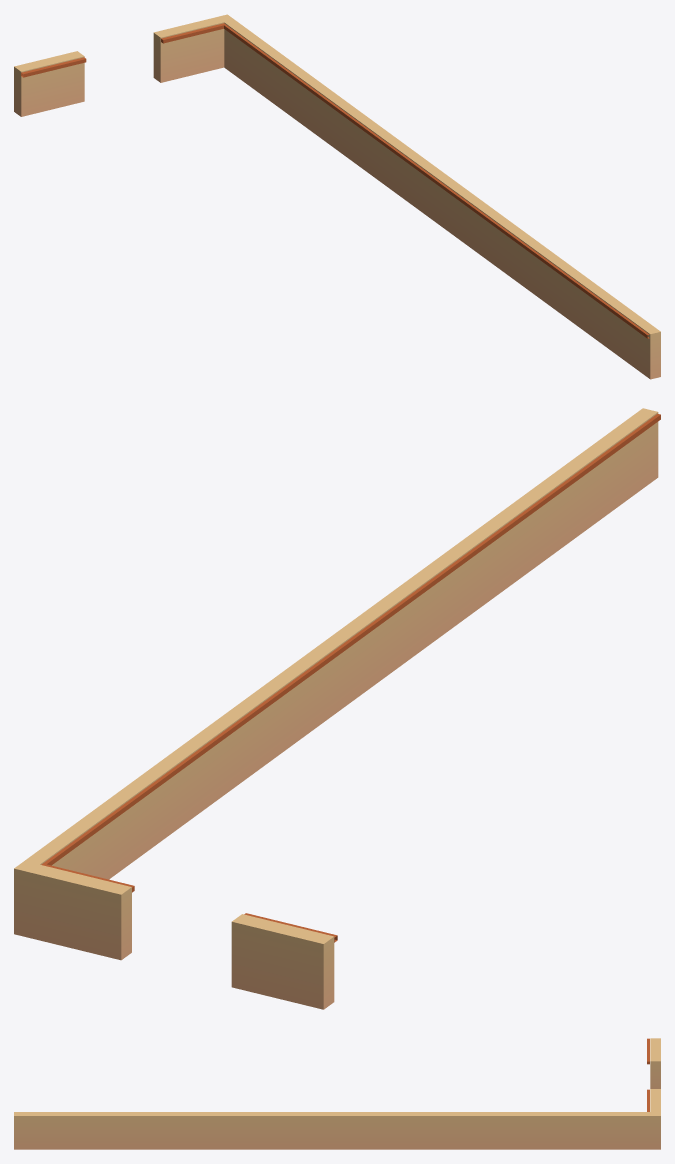
Rendered from Wall_Right.fbx.
The picture shows the model from 3 angles, top to bottom: view 1: azimuth 30°, elevation 25°; view 2: azimuth 150°, elevation 25°; view 3: azimuth 270°, elevation 25°; orthographic projection. The views are drawn at different scales.
Visible parts, largest first — view 1: Wall; view 2: Wall; view 3: Wall.
Boxes of the visible parts, x1,y1,x2,y2 form: Wall: [14, 14, 660, 379]; Wall: [14, 408, 660, 1009]; Wall: [14, 1038, 660, 1149].
Size of the model in its own units: 5.62 by 1.14 by 19.73.
